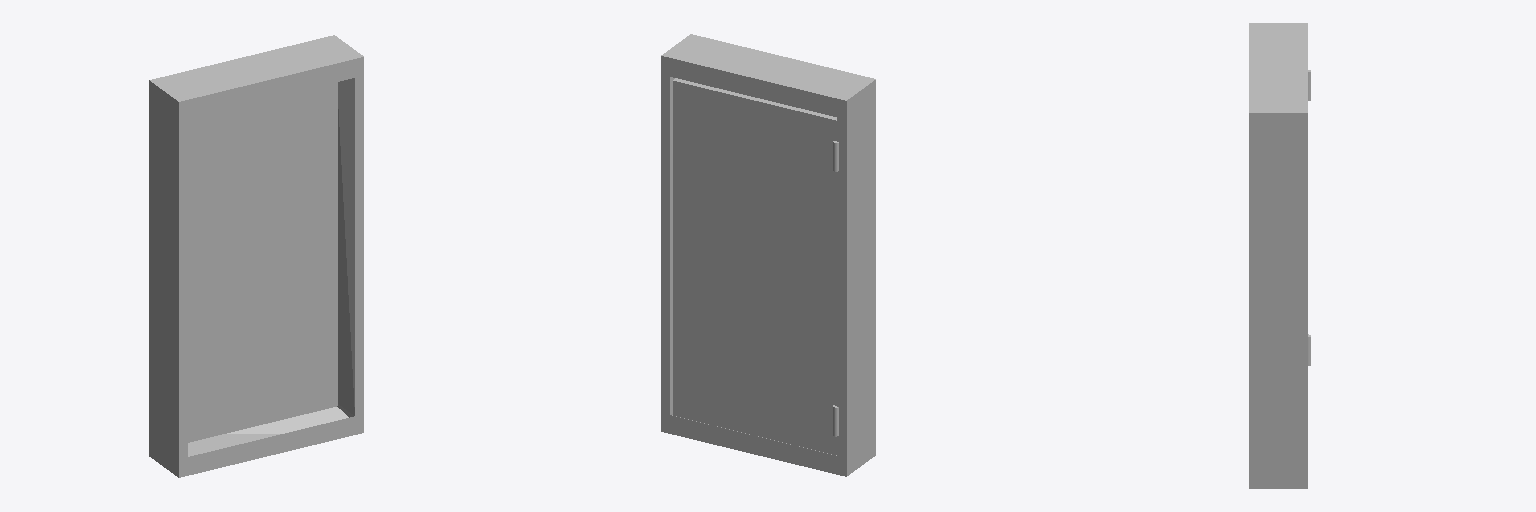
Rendered from inner-door.obj.
3 views of the same model, side by side, from view 1: azimuth 30°, elevation 25°; view 2: azimuth 150°, elevation 25°; view 3: azimuth 270°, elevation 25° (orthographic).
Parts seen in each view (by area): view 1: Cube.001, Cube; view 2: Cube.001, Cube; view 3: Cube.
Part boxes in pixels (x1,y1,x2,y2): Cube.001: (188, 82, 337, 442); Cube: (149, 35, 363, 477); Cube.001: (673, 78, 836, 454); Cube: (661, 34, 875, 476); Cube: (1249, 23, 1310, 488).
Size of the model in its own units: 1.03 by 2 by 0.3011.